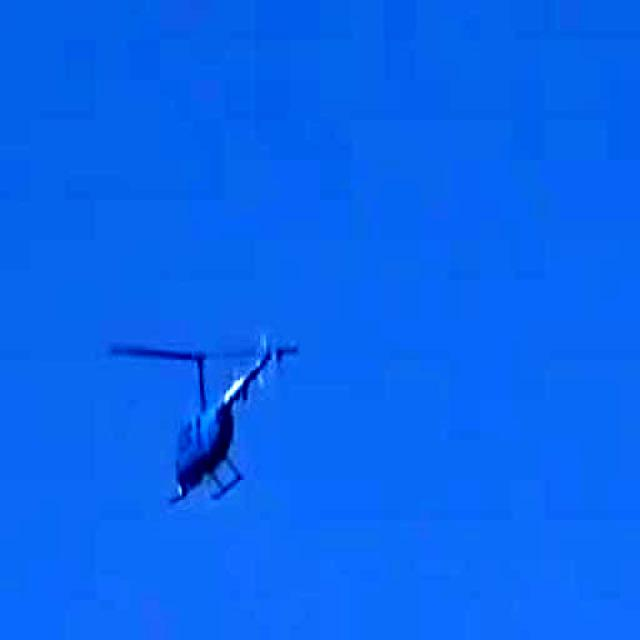drone: (85, 301, 321, 538)
